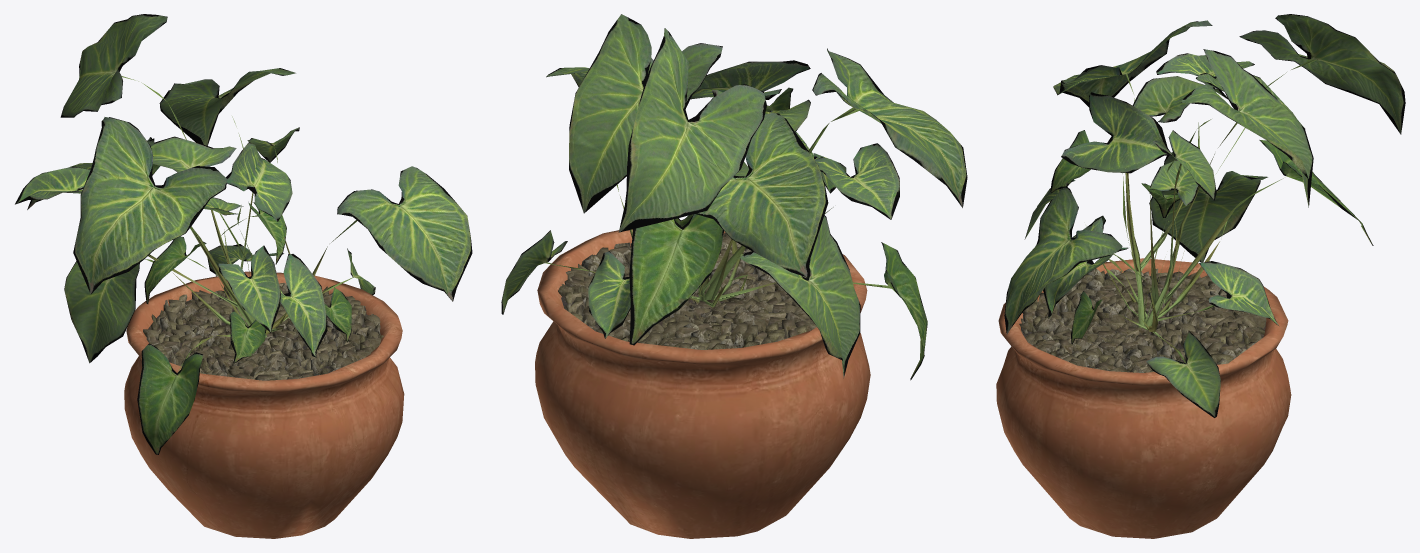
Rendered from plant.glb.
The picture shows the model from 3 angles, left to right: view 1: azimuth 30°, elevation 25°; view 2: azimuth 150°, elevation 25°; view 3: azimuth 270°, elevation 25°; orthographic projection. The views are drawn at different scales.
Visible parts, largest first — view 1: potted_plant_02_leaves, potted_plant_02_pot; view 2: potted_plant_02_leaves, potted_plant_02_pot; view 3: potted_plant_02_pot, potted_plant_02_leaves.
Boxes of the visible parts, box(x1,y1,x2,y2) form: potted_plant_02_leaves: box(15, 14, 472, 454); potted_plant_02_pot: box(124, 271, 404, 538); potted_plant_02_leaves: box(501, 14, 967, 380); potted_plant_02_pot: box(535, 229, 870, 538); potted_plant_02_pot: box(996, 258, 1291, 538); potted_plant_02_leaves: box(1004, 14, 1405, 417).
Size of the model in its own units: 0.7009 by 0.8401 by 0.6561.
2 materials, 2 textured.
